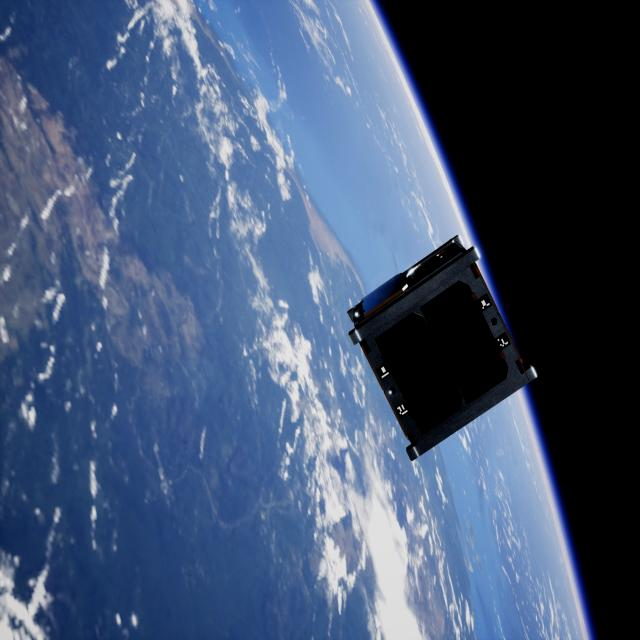satellite: (334, 233, 539, 467)
